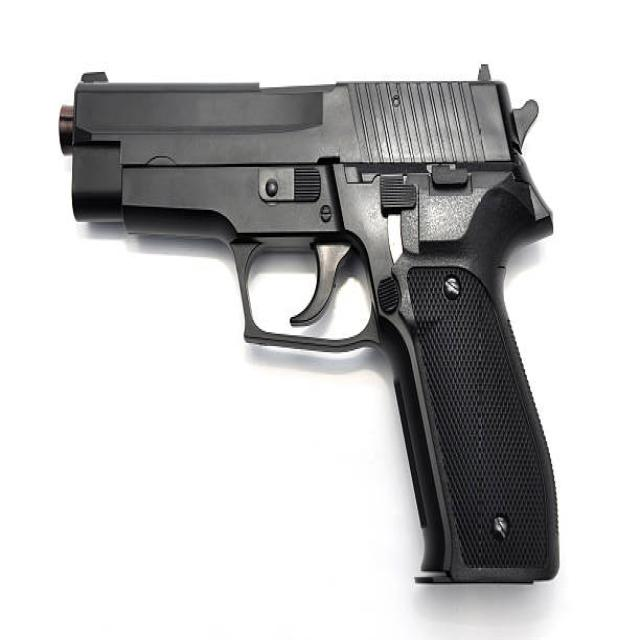pistol: (57, 61, 571, 588)
